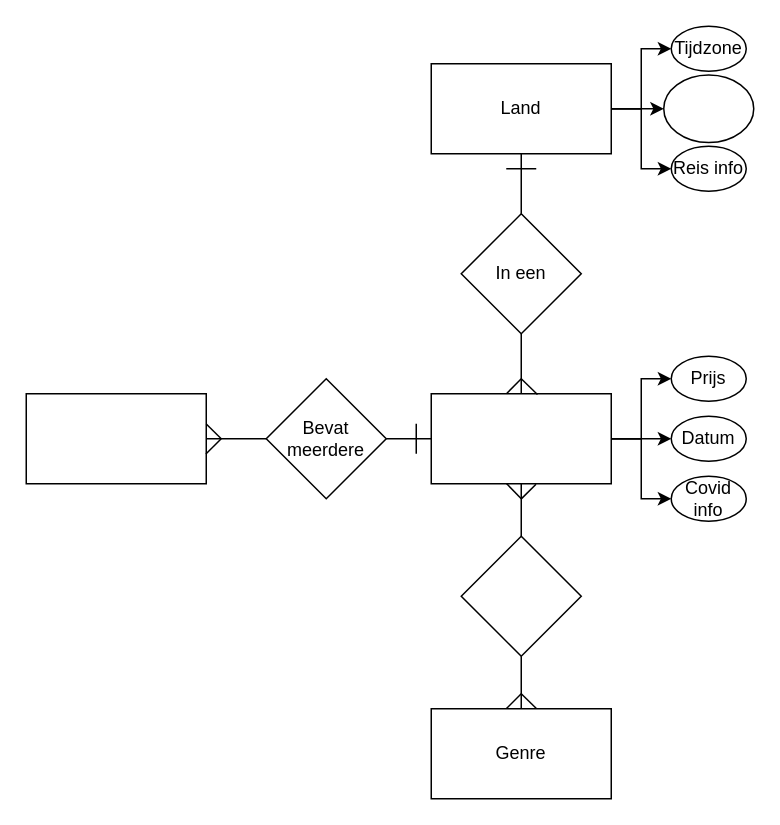
The diagram is 780 pixels wide and 825 high, and some of its shapes have lost their labels. Each missing label, with the centre of its shape:
"Artiesten" belongs at point (115, 438).
"Festival" belongs at point (520, 438).
"Geschikt voor" belongs at point (520, 595).
"Land covid status" belongs at point (708, 108).
